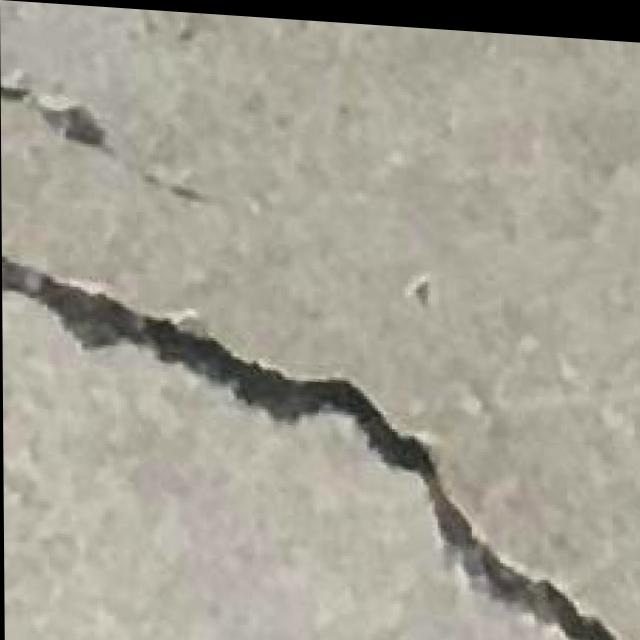Crack: (4, 257, 640, 640), (3, 74, 193, 194)
